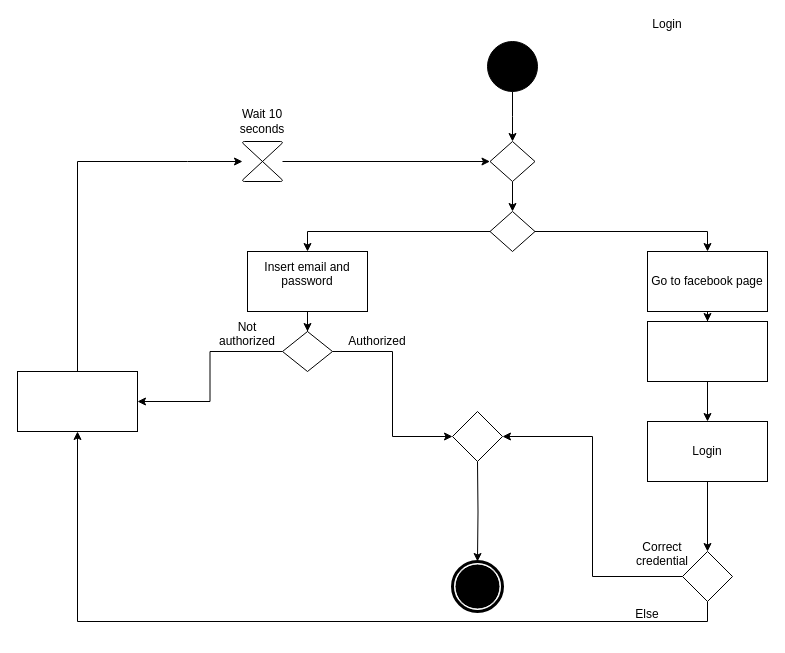
Some shapes in this 785 by 653 pixel diagram are drawn without their labels. The centre of each missing label's shape, as x and y in pixels:
Authorize travelbook: the point at 707,351
Show error message: the point at 77,401
